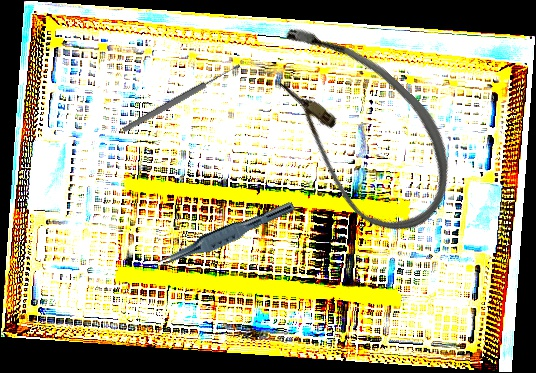Cannula: (229, 3, 483, 252)
Surgical Spoon: (121, 62, 242, 134)
Tissue Forceps: (152, 193, 296, 277)
